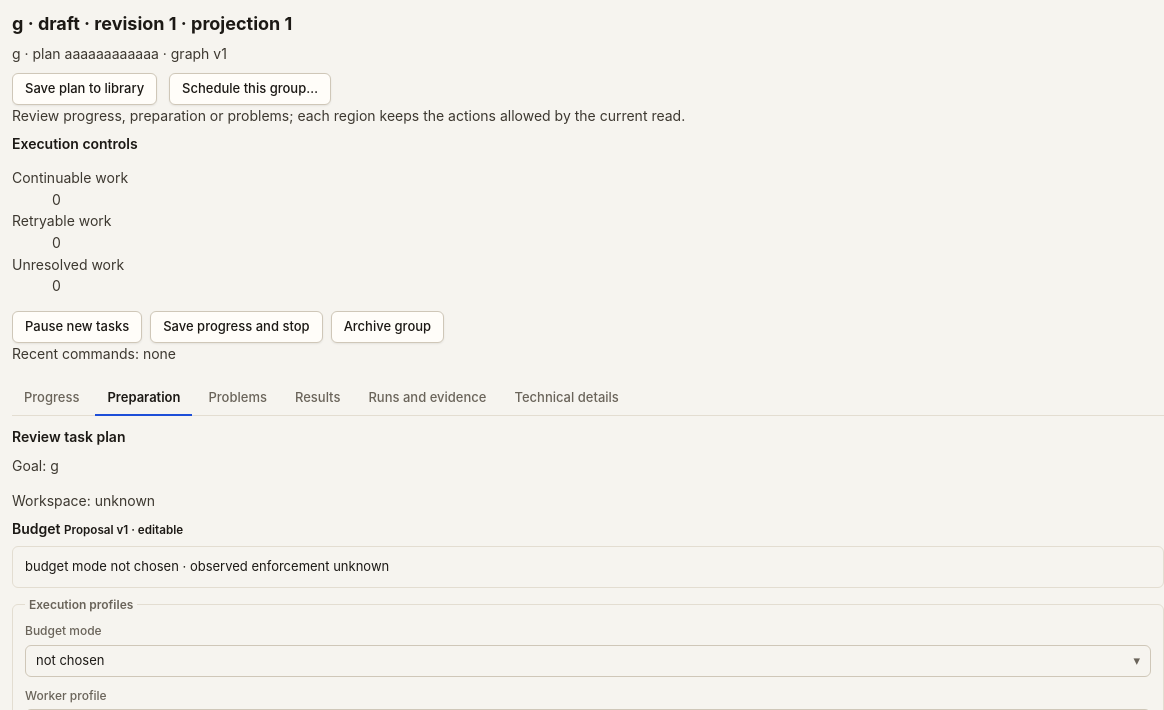
Test: a withdrawn estimate (spec correction 2026-10-20) › shows the state and the reason in English
What coordinates should you click on to do the following:
click the tab "Technical details"
I would click on:
 (567, 399)
Its box is [502,381,631,416].
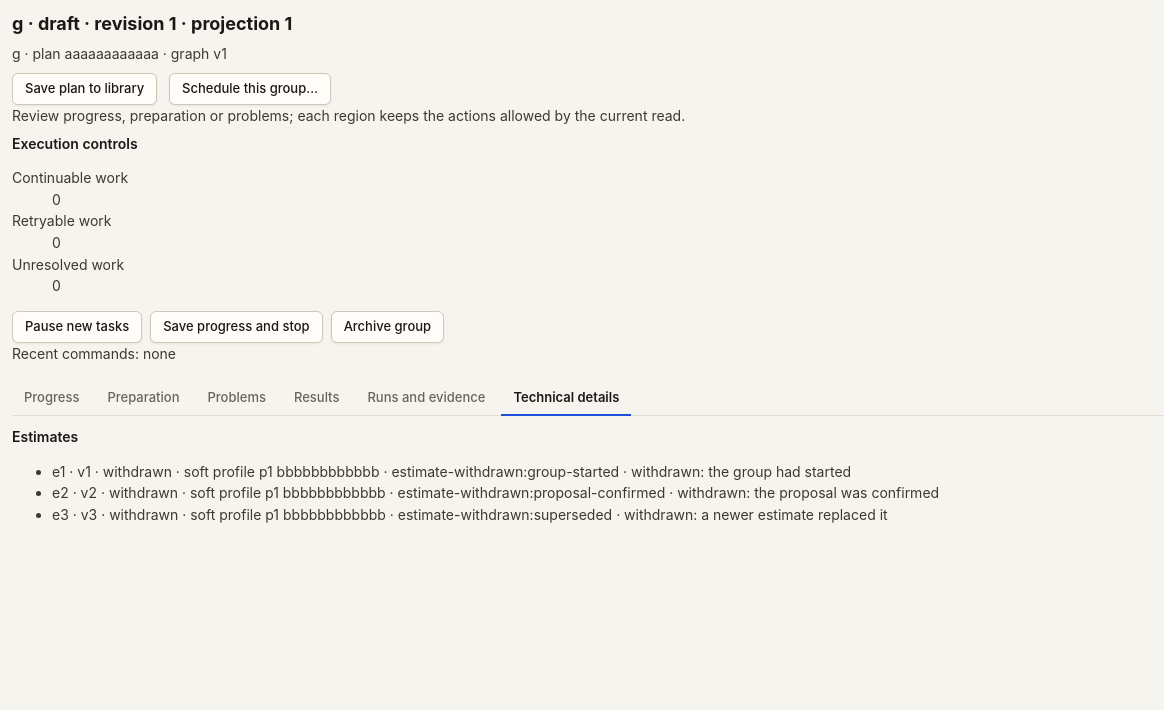
Check: the text "v1 · withdrawn ·" is shown, box [52,462,380,480]
Check: the text "withdrawn: the group had started" is shown, box [619,462,851,480]
Check: the text "withdrawn: the proposal was confirmed" is shown, box [665,484,939,501]
